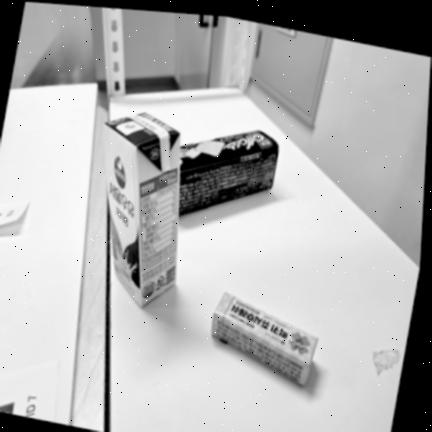cracker_ace: (178, 129, 278, 214)
gum_yellow: (211, 292, 317, 385)
milk_blue: (103, 112, 180, 306)
